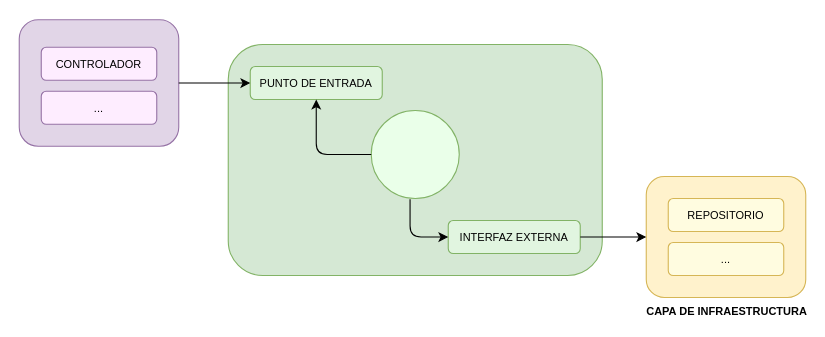
Image size: 825x337. Some labels were removed from this diagram. The box of each missing label's shape, as (x1, y1, x2, y2) in pixels:
CAPA DE APLICACIÓN: (18, 19, 179, 146)
CAPA DE DOMINIO: (227, 43, 602, 276)
LÓGICA DE NEGOCIO: (370, 109, 459, 199)
